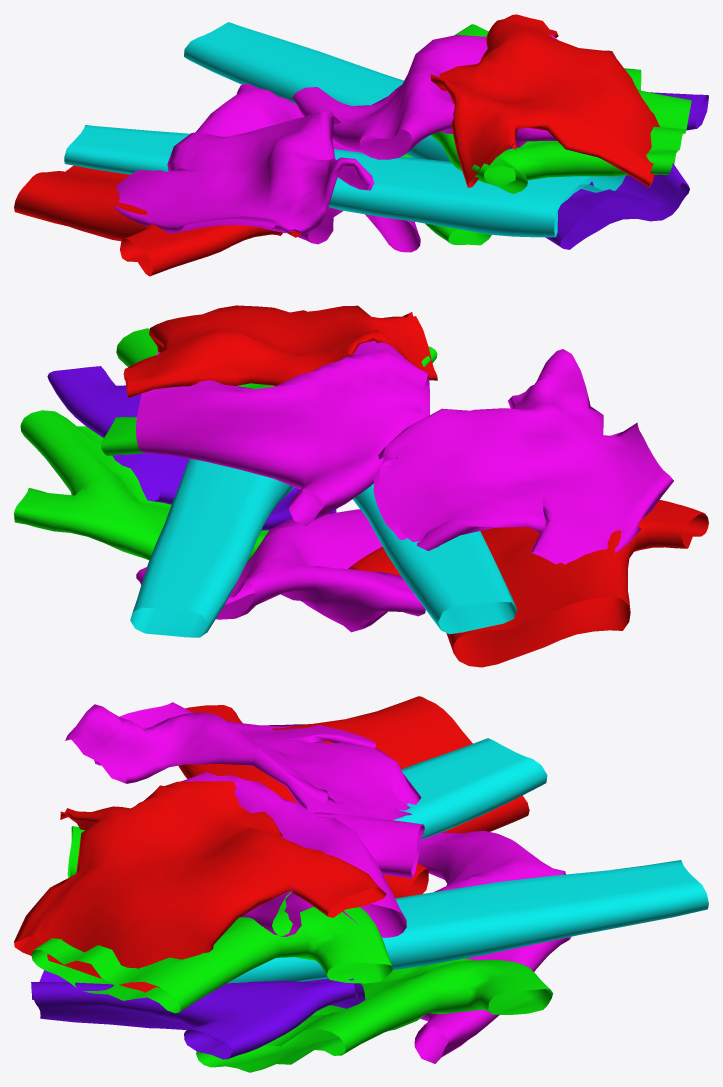
The model's file is Platform_4.fbx.
The picture shows the model from 3 angles, top to bottom: view 1: azimuth 30°, elevation 25°; view 2: azimuth 150°, elevation 25°; view 3: azimuth 270°, elevation 25°; orthographic projection. The views are drawn at different scales.
Parts seen in each view (by area): view 1: Depth_2, Second_platform; view 2: Depth_2, Second_platform; view 3: Depth_2, Second_platform.
Boxes of the visible parts, x1,y1,x2,y2 form: Depth_2: [113, 14, 691, 234]; Second_platform: [14, 22, 708, 276]; Depth_2: [101, 305, 673, 564]; Second_platform: [14, 366, 708, 667]; Depth_2: [14, 702, 424, 1013]; Second_platform: [31, 696, 708, 1072].
Bounding box in the file's own units: 5.24 × 1.6 × 4.29.
